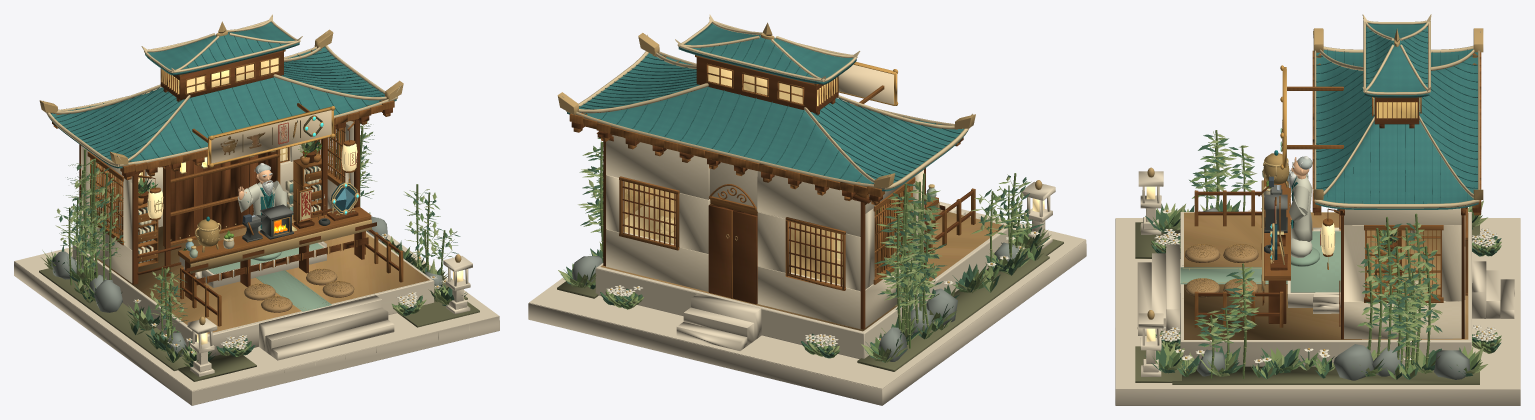
File: arts-lod1-4711026abbba.glb
The picture shows the model from 3 angles, left to right: view 1: azimuth 30°, elevation 25°; view 2: azimuth 150°, elevation 25°; view 3: azimuth 270°, elevation 25°; orthographic projection. The views are drawn at different scales.
Visible parts, largest first — view 1: SM_AR6_MAT_AR6_RoofPatina.007, SM_AR6_MAT_AR6_CutStone.007, SM_AR6_MAT_AR6_WarmTimber_AR6_RearDoorHinge_1.007, SM_AR6_MAT_AR6_TimberTrim_AR6_RearDoorHinge_-1.007, SM_AR6_MAT_AR6_FloorWood.007, SM_AR6_MAT_AR6_Foundation.007, SM_AR6_MAT_AR6_RoofCreamEdge.014, SM_AR6_MAT_AR6_GardenSoil.007, SM_AR6_MAT_AR6_BambooCulm.007, SM_AR6_MAT_AR6_Plaster.007, SM_AR6_MAT_AR6_PanelFoldShadow.007, SM_AR6_MAT_AR6_AgedGold_AR6_RearDoorHinge_1.007 (+20 smaller); view 2: SM_AR6_MAT_AR6_RoofPatina.007, SM_AR6_MAT_AR6_Plaster.007, SM_AR6_MAT_AR6_CutStone.007, SM_AR6_MAT_AR6_WarmTimber_AR6_RearDoorHinge_1.007, SM_AR6_MAT_AR6_TimberTrim_AR6_RearDoorHinge_-1.007, SM_AR6_MAT_AR6_Foundation.007, SM_AR6_MAT_AR6_RoofCreamEdge.014, SM_AR6_MAT_AR6_PanelFoldShadow.007, SM_AR6_MAT_AR6_RearWarmPaperGlass.004, SM_AR6_MAT_AR6_BambooCulm.007, SM_AR6_MAT_AR6_GardenSoil.007, SM_AR6_MAT_AR6_PaperFoliage2.007 (+10 smaller); view 3: SM_AR6_MAT_AR6_CutStone.007, SM_AR6_MAT_AR6_RoofPatina.007, SM_AR6_MAT_AR6_FloorWood.007, SM_AR6_MAT_AR6_Plaster.007, SM_AR6_MAT_AR6_Foundation.007, SM_AR6_MAT_AR6_TimberTrim_AR6_RearDoorHinge_-1.007, SM_AR6_MAT_AR6_GardenSoil.007, SM_AR6_MAT_AR6_RoofCreamEdge.014, SM_AR6_MAT_AR6_WarmTimber_AR6_RearDoorHinge_1.007, SM_AR6_MAT_AR6_BambooCulm.007, SM_AR6_MAT_AR6_PaperFoliage1.007, SM_AR6_MAT_AR6_PaperFoliage3.007 (+18 smaller).
Boxes of the visible parts, box(x1,y1,x2,y2) form: SM_AR6_MAT_AR6_RoofPatina.007: box(48, 22, 396, 168); SM_AR6_MAT_AR6_CutStone.007: box(14, 231, 499, 391); SM_AR6_MAT_AR6_WarmTimber_AR6_RearDoorHinge_1.007: box(52, 50, 399, 315); SM_AR6_MAT_AR6_TimberTrim_AR6_RearDoorHinge_-1.007: box(53, 49, 403, 326); SM_AR6_MAT_AR6_FloorWood.007: box(84, 202, 429, 333); SM_AR6_MAT_AR6_Foundation.007: box(14, 261, 499, 405); SM_AR6_MAT_AR6_RoofCreamEdge.014: box(43, 14, 400, 212); SM_AR6_MAT_AR6_GardenSoil.007: box(39, 239, 479, 381); SM_AR6_MAT_AR6_BambooCulm.007: box(57, 126, 457, 340); SM_AR6_MAT_AR6_Plaster.007: box(81, 121, 353, 282); SM_AR6_MAT_AR6_PanelFoldShadow.007: box(50, 36, 384, 161); SM_AR6_MAT_AR6_AgedGold_AR6_RearDoorHinge_1.007: box(39, 21, 461, 325); SM_AR6_MAT_AR6_RoofPatina.007: box(567, 23, 967, 191); SM_AR6_MAT_AR6_Plaster.007: box(606, 135, 924, 328); SM_AR6_MAT_AR6_CutStone.007: box(529, 181, 1085, 388); SM_AR6_MAT_AR6_WarmTimber_AR6_RearDoorHinge_1.007: box(571, 56, 973, 329); SM_AR6_MAT_AR6_TimberTrim_AR6_RearDoorHinge_-1.007: box(569, 55, 975, 298); SM_AR6_MAT_AR6_Foundation.007: box(528, 240, 1086, 405); SM_AR6_MAT_AR6_RoofCreamEdge.014: box(562, 14, 973, 189); SM_AR6_MAT_AR6_PanelFoldShadow.007: box(579, 39, 960, 184); SM_AR6_MAT_AR6_RearWarmPaperGlass.004: box(624, 181, 842, 284); SM_AR6_MAT_AR6_BambooCulm.007: box(591, 142, 1031, 348); SM_AR6_MAT_AR6_GardenSoil.007: box(557, 229, 1063, 371); SM_AR6_MAT_AR6_PaperFoliage2.007: box(570, 147, 1047, 362); SM_AR6_MAT_AR6_CutStone.007: box(1115, 171, 1520, 389); SM_AR6_MAT_AR6_RoofPatina.007: box(1315, 23, 1478, 209); SM_AR6_MAT_AR6_FloorWood.007: box(1184, 212, 1468, 339); SM_AR6_MAT_AR6_Plaster.007: box(1344, 208, 1465, 338); SM_AR6_MAT_AR6_Foundation.007: box(1115, 218, 1520, 405); SM_AR6_MAT_AR6_TimberTrim_AR6_RearDoorHinge_-1.007: box(1194, 50, 1481, 327); SM_AR6_MAT_AR6_GardenSoil.007: box(1135, 222, 1479, 384); SM_AR6_MAT_AR6_RoofCreamEdge.014: box(1313, 14, 1481, 248); SM_AR6_MAT_AR6_WarmTimber_AR6_RearDoorHinge_1.007: box(1198, 97, 1481, 339); SM_AR6_MAT_AR6_BambooCulm.007: box(1200, 130, 1433, 378); SM_AR6_MAT_AR6_PaperFoliage1.007: box(1151, 134, 1501, 379); SM_AR6_MAT_AR6_PaperFoliage3.007: box(1145, 134, 1501, 379).
Bounding box in the file's own units: 10 × 7.97 × 10.
Materials: 81 (10 with a texture image).
